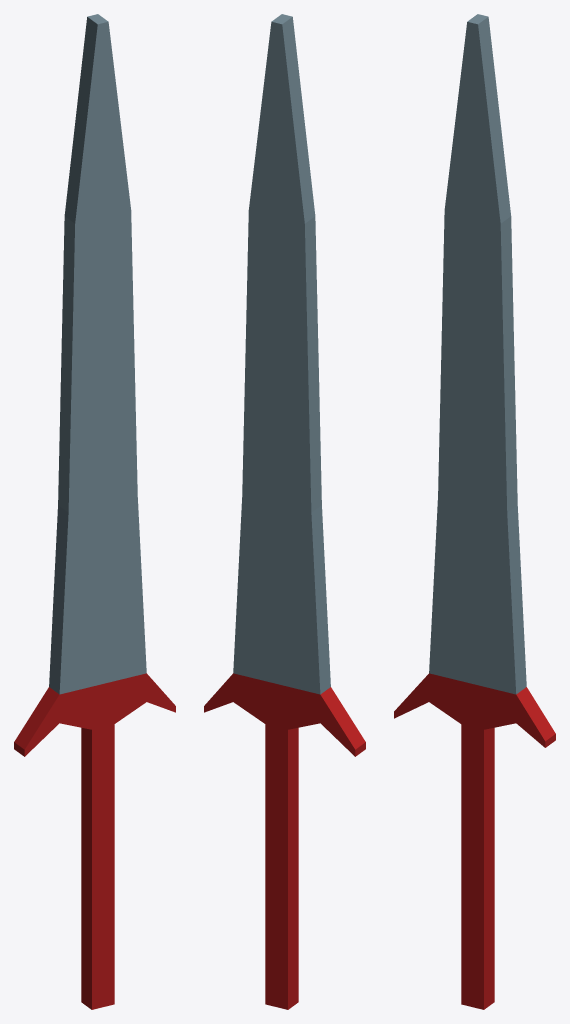
Rendered from handmade_4.obj.
The picture shows the model from 3 angles, left to right: view 1: azimuth 30°, elevation 25°; view 2: azimuth 150°, elevation 25°; view 3: azimuth 330°, elevation 25°; orthographic projection.
Parts seen in each view (by area): view 1: model; view 2: model; view 3: model.
Part boxes in pixels (left/top/right/bottom): model: left=14, top=14, right=175, bottom=1009; model: left=204, top=14, right=365, bottom=1009; model: left=394, top=14, right=555, bottom=1009.
Bounding box in the file's own units: 0.2082 × 1.3 × 0.0252.
